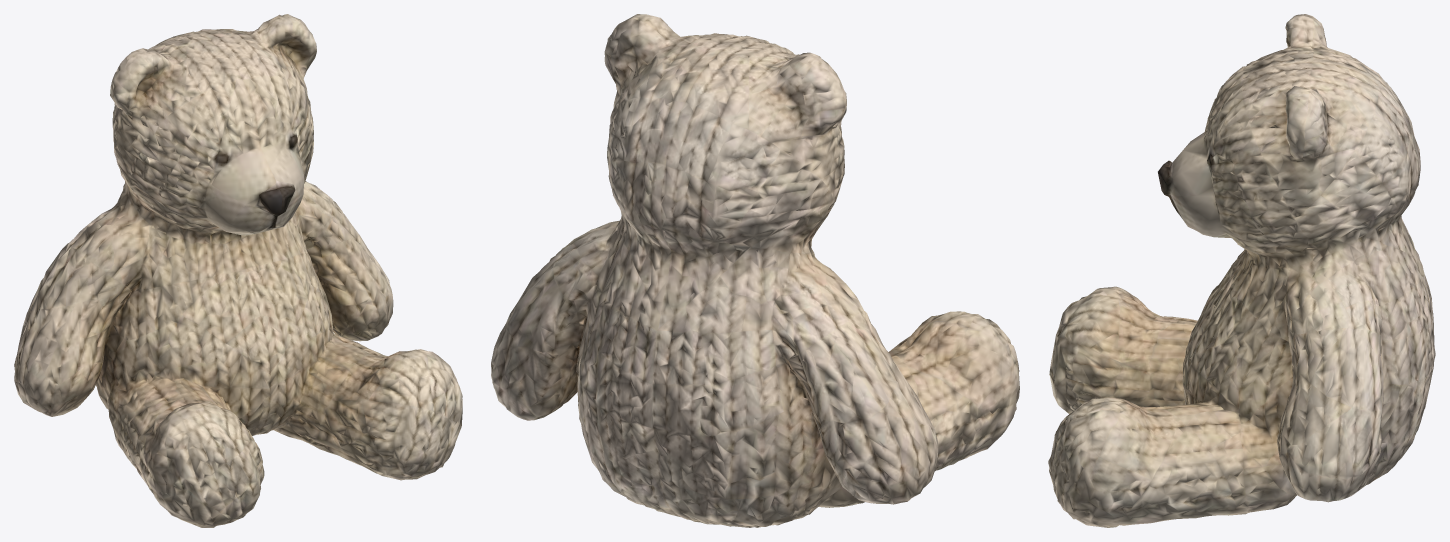
3 renders of one model, left to right at view 1: azimuth 30°, elevation 25°; view 2: azimuth 150°, elevation 25°; view 3: azimuth 270°, elevation 25°, orthographic. The views are drawn at different scales.
Size of the model in its own units: 1.94 by 2 by 1.68.
1 material, 1 textured.
